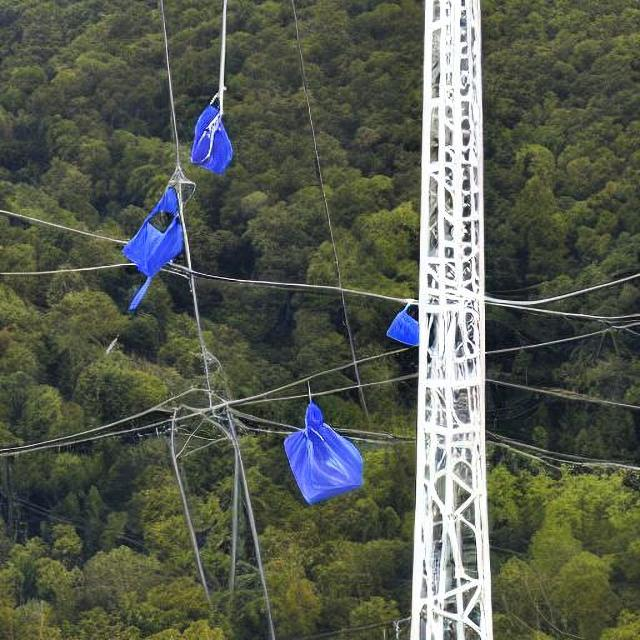floating object: (120, 185, 188, 312), (281, 409, 361, 503), (190, 94, 233, 173), (384, 302, 418, 347)
